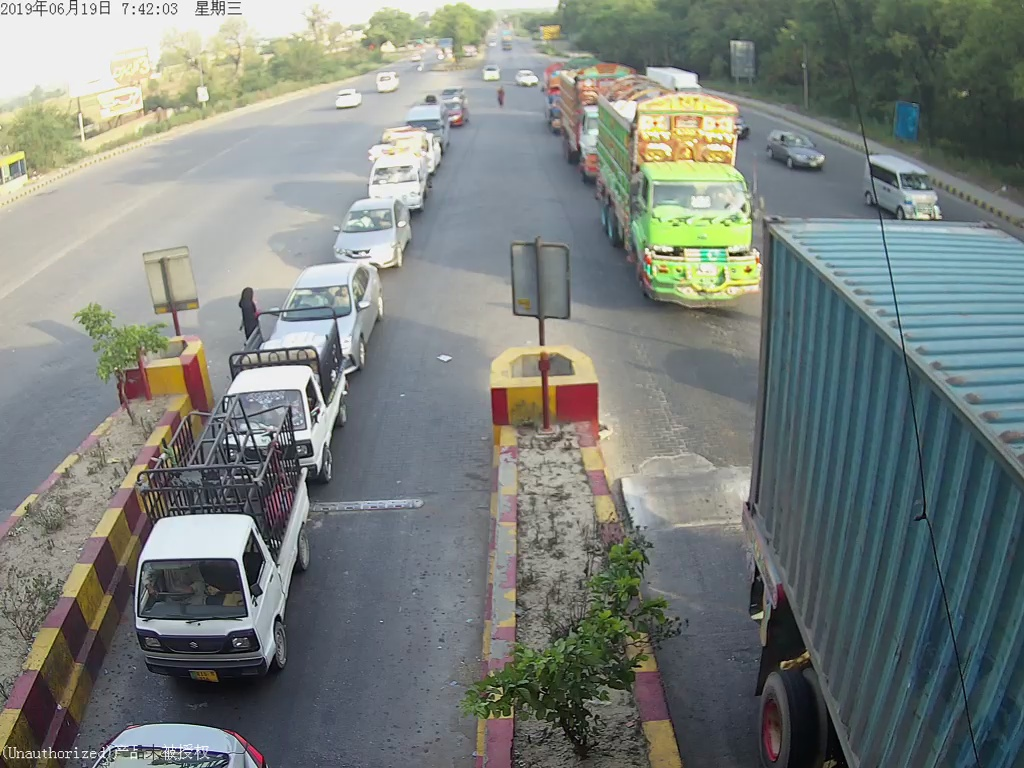Cat-1: (143, 414, 319, 683), (224, 327, 348, 412), (333, 203, 412, 264)
Cat-4: (600, 76, 756, 307)
